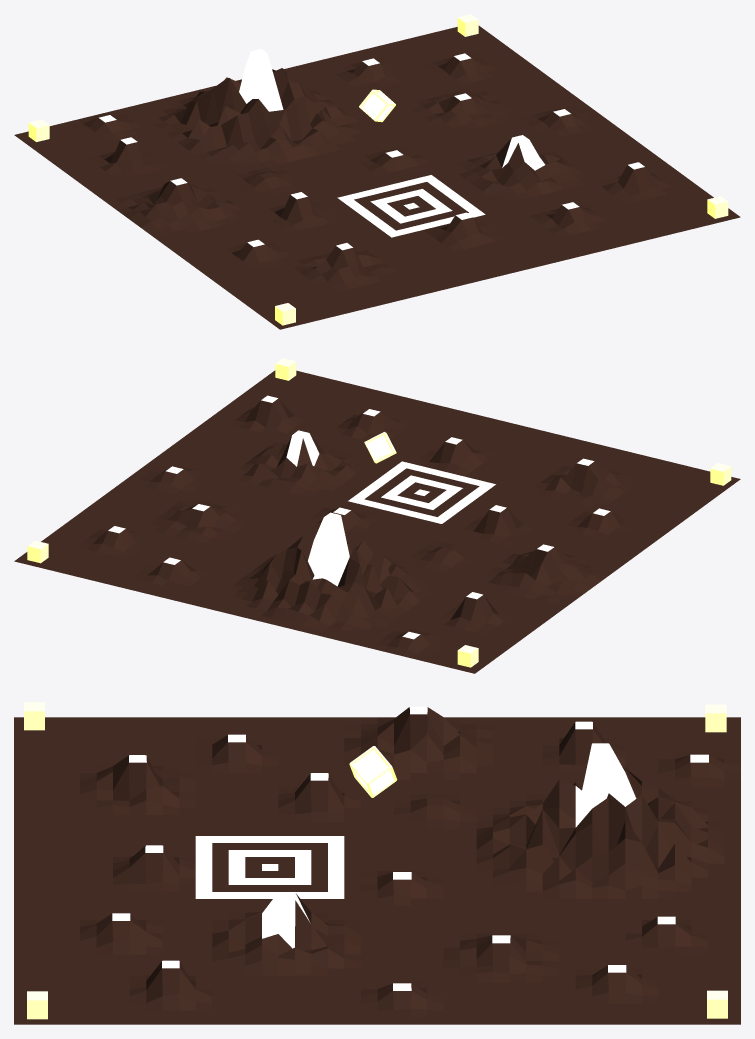
File: Level 2 - Cube world 2.gltf
The picture shows the model from 3 angles, top to bottom: view 1: azimuth 30°, elevation 25°; view 2: azimuth 150°, elevation 25°; view 3: azimuth 270°, elevation 25°; orthographic projection. The views are drawn at different scales.
Visible parts, largest first — view 1: Plane, Cube sun; view 2: Plane, Cube sun; view 3: Plane, Cube sun, Cube guard 3, Cube guard 2, Cube guard, Cube guard 4.
Part boxes in pixels (bbox=[...]): Plane: bbox=[14, 25, 740, 329]; Cube sun: bbox=[359, 89, 395, 122]; Plane: bbox=[14, 370, 740, 673]; Cube sun: bbox=[364, 432, 396, 463]; Plane: bbox=[14, 706, 740, 1024]; Cube sun: bbox=[349, 746, 397, 797]; Cube guard 3: bbox=[705, 704, 726, 732]; Cube guard 2: bbox=[707, 990, 727, 1018]; Cube guard: bbox=[27, 991, 47, 1019]; Cube guard 4: bbox=[24, 702, 44, 730].
Size of the model in its own units: 69.1 by 12.72 by 69.1.
